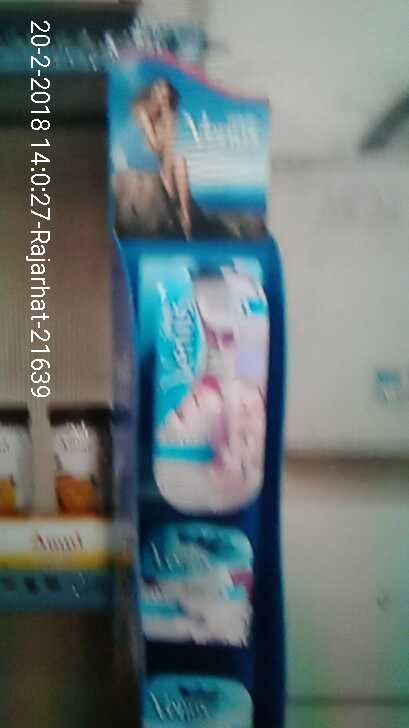venus: (153, 265, 270, 517), (138, 520, 251, 647)
